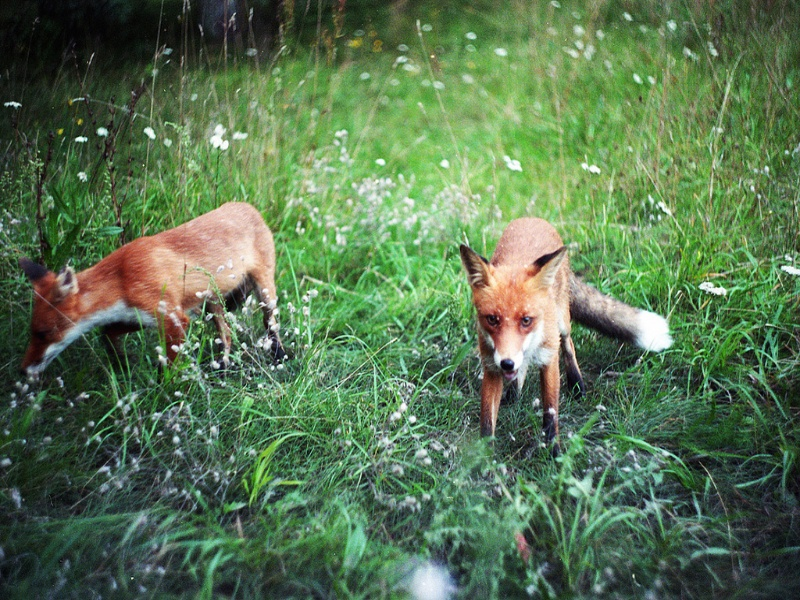fox: (21, 197, 287, 417), (458, 208, 676, 453)
